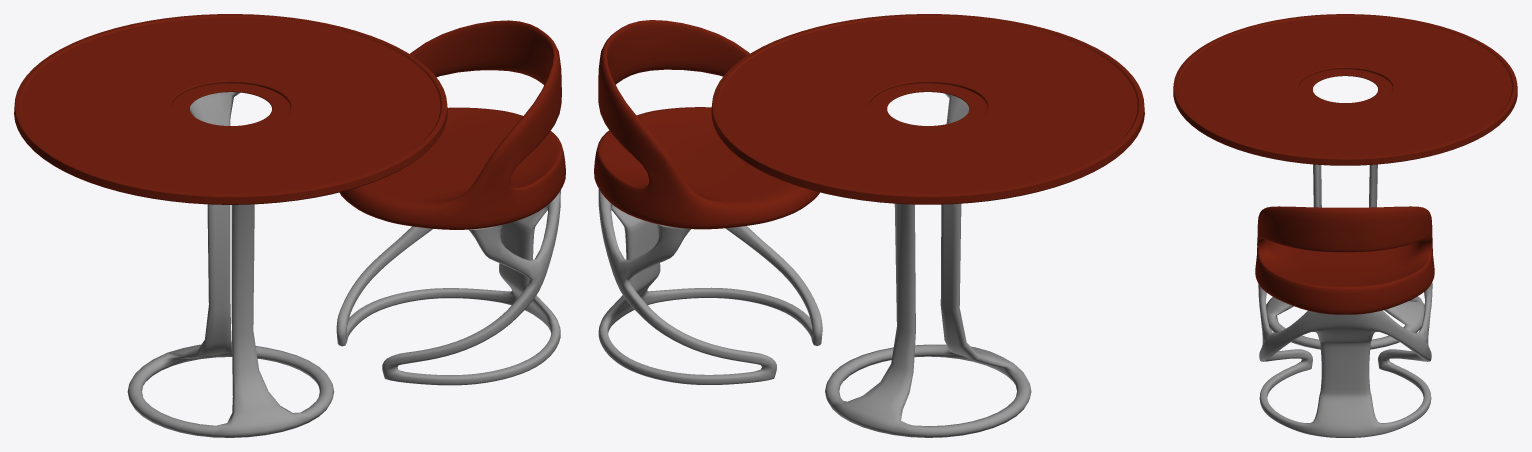
Rendered from Sci-fi_Table_set.FBX.
The picture shows the model from 3 angles, left to right: view 1: azimuth 30°, elevation 25°; view 2: azimuth 150°, elevation 25°; view 3: azimuth 270°, elevation 25°; orthographic projection. The views are drawn at different scales.
Parts seen in each view (by area): view 1: Table, Seat; view 2: Table, Seat; view 3: Table, Seat.
Part boxes in pixels (<box>): Table: <box>14,14,447,437</box>; Seat: <box>336,20,565,385</box>; Table: <box>711,14,1144,437</box>; Seat: <box>594,20,822,384</box>; Table: <box>1173,14,1517,349</box>; Seat: <box>1255,206,1434,437</box>.
Size of the model in its own units: 137 by 75.4 by 102.
